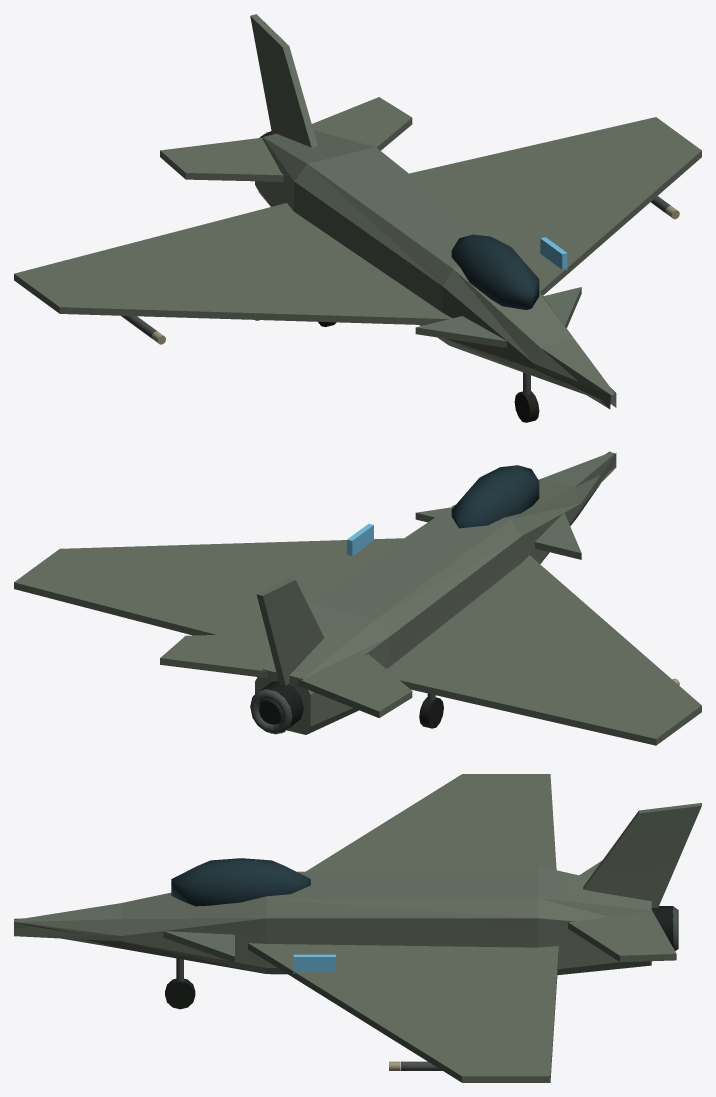
The model's file is attackAircraft-lod.glb.
The picture shows the model from 3 angles, top to bottom: view 1: azimuth 30°, elevation 25°; view 2: azimuth 150°, elevation 25°; view 3: azimuth 270°, elevation 25°; orthographic projection. The views are drawn at different scales.
Parts seen in each view (by area): view 1: equipment (×2); view 2: equipment (×2), marking; view 3: equipment (×2), marking.
Boxes of the visible parts, box(x1,y1,x2,y2) form: equipment (×2): box(14, 14, 701, 422); equipment (×2): box(14, 451, 701, 745); marking: box(347, 523, 373, 555); equipment (×2): box(14, 774, 701, 1082); marking: box(293, 954, 335, 973).
Bounding box in the file's own units: 8.5 × 2.64 × 8.17.
